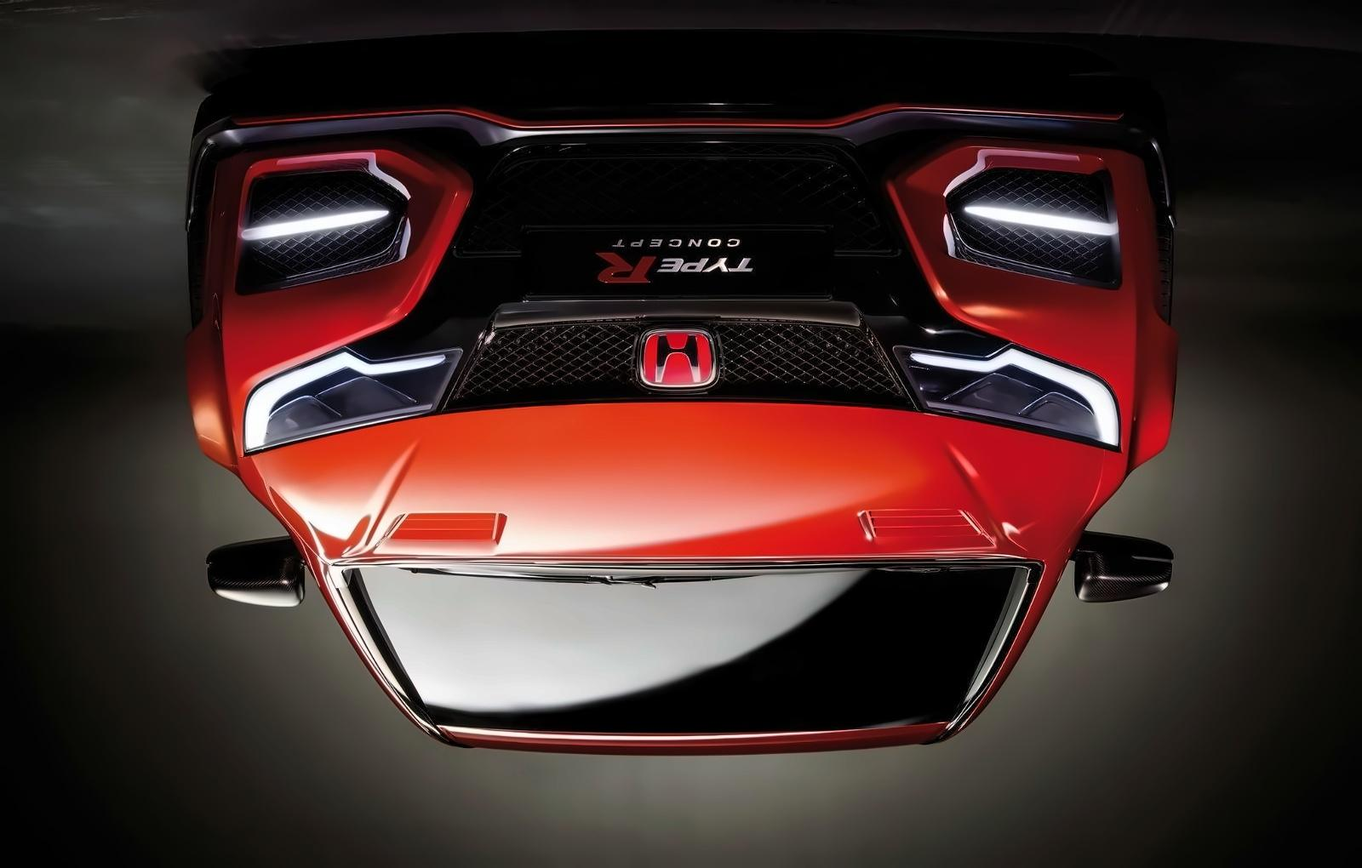Car hood: (241, 396, 1125, 579)
Front bumper: (178, 70, 1193, 413)
Headlight - -L-: (241, 328, 463, 455)
Headlight - -R-: (904, 339, 1121, 459)
Side mirror - -L-: (207, 528, 312, 614)
Side mirror - -R-: (1063, 528, 1177, 613)
